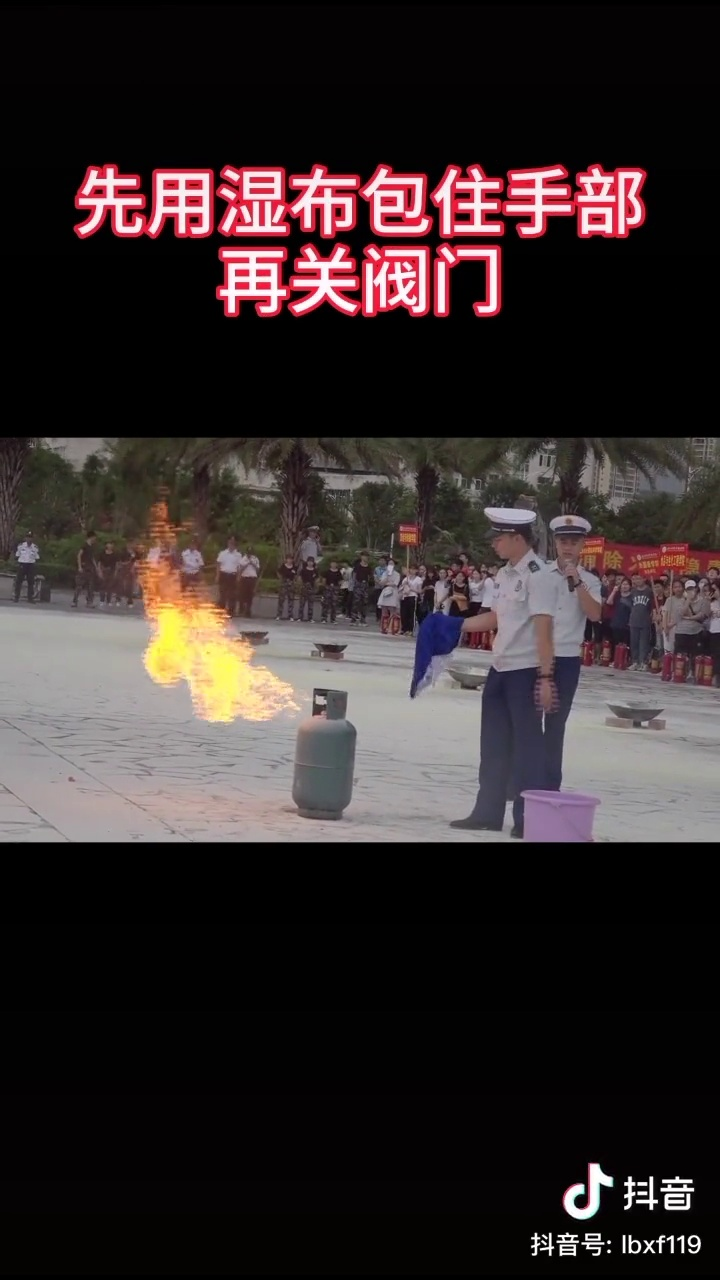fire: (121, 538, 300, 724)
